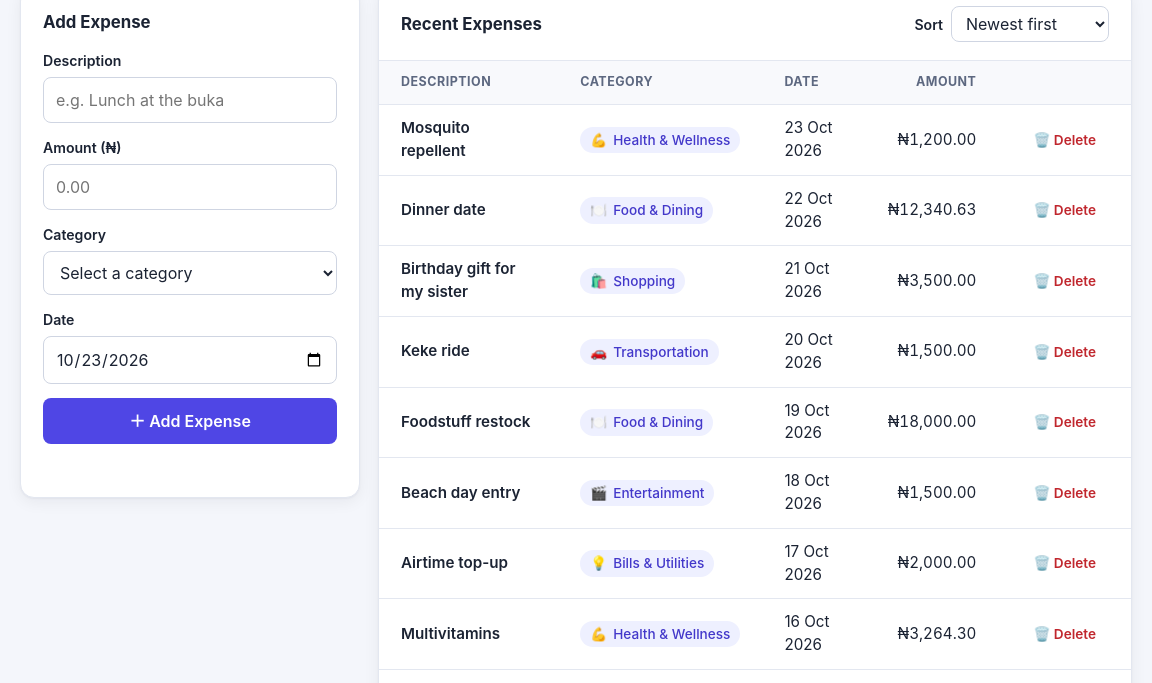
Test: App › adding an expense › shows validation errors and does not add an invalid expense
(page scrolled)
Clear the date field labelled "Date" at (190, 360), box [43,336,337,384]
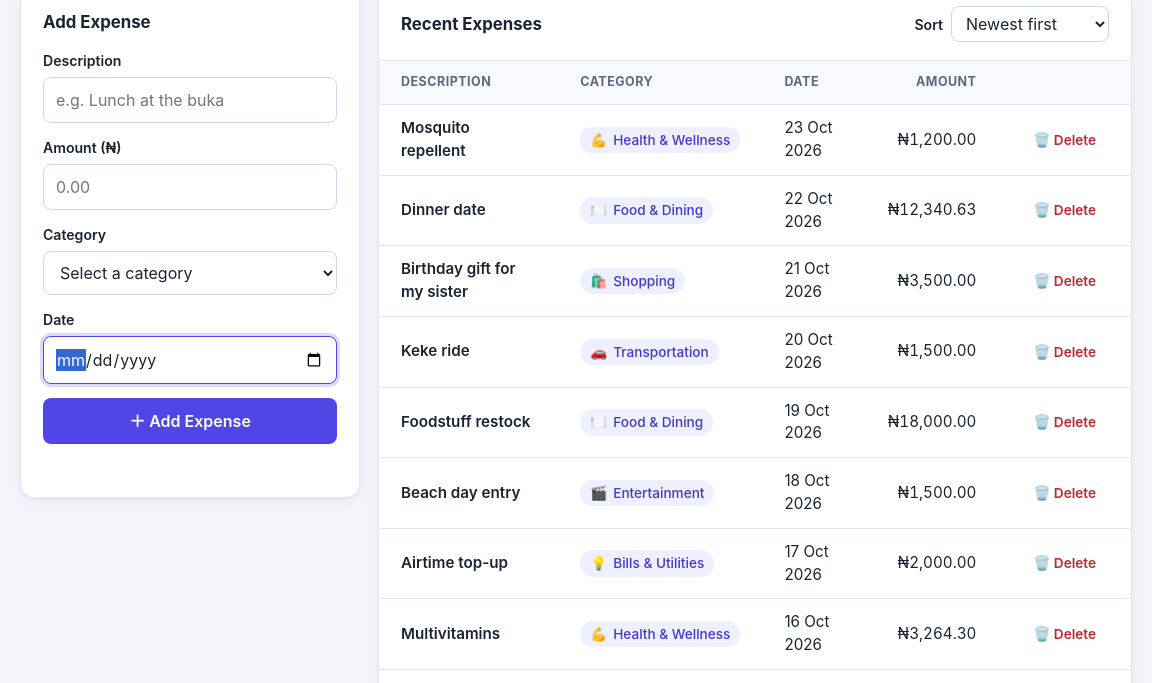
Type "0" into the number field labelled "Amount (₦)" at (190, 187), box [43,164,337,210]
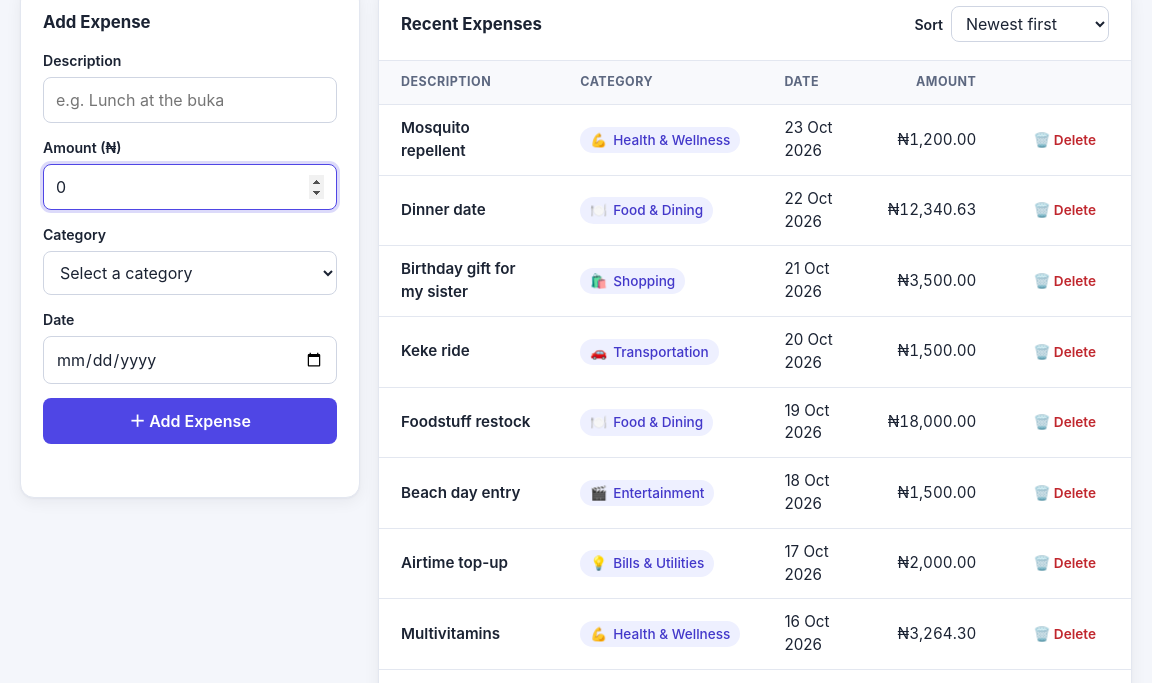
Click the button "＋ Add Expense" at (190, 421), box [43,398,337,444]
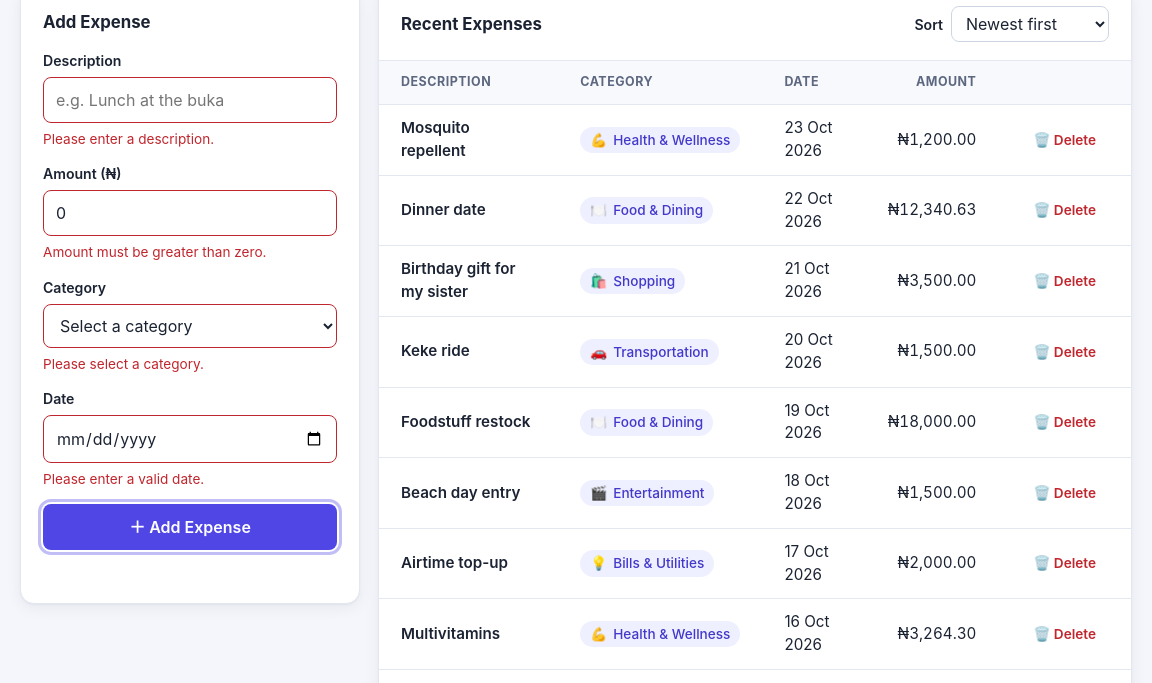
expect the text "Please enter a description." is shown: met, box [43,131,214,147]
expect the text "Amount must be greater than zero." is shown: met, box [43,244,266,260]
expect the text "Please select a category." is shown: met, box [43,356,204,372]
